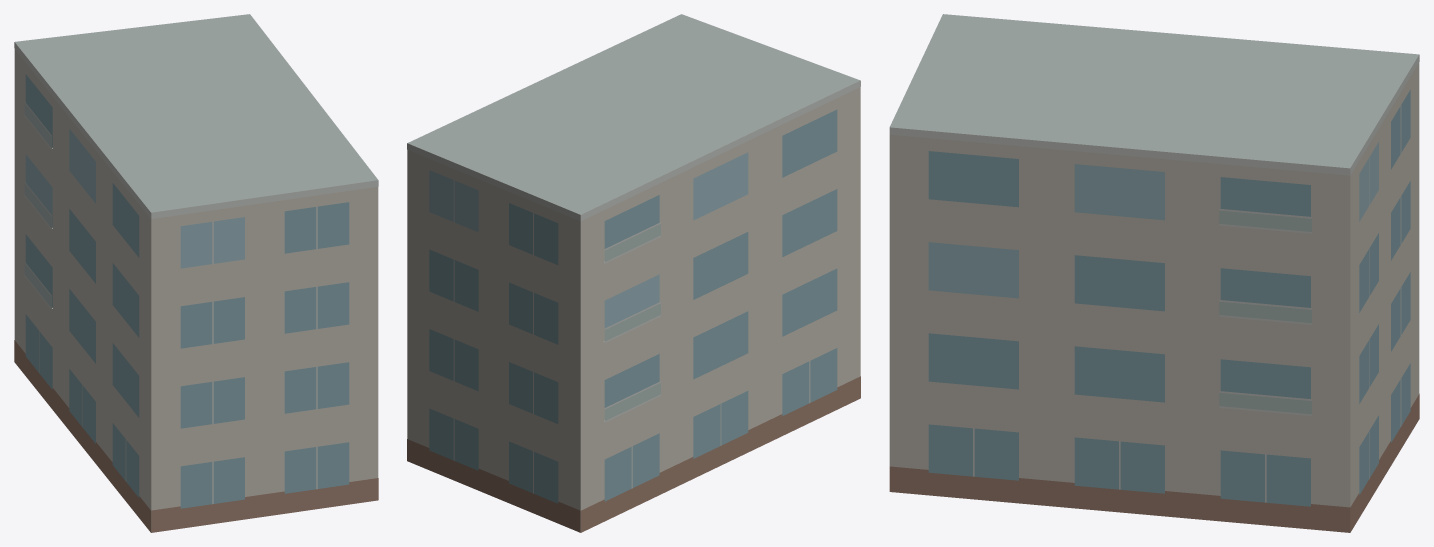
Rendered from survey-upis-32656514.glb.
3 renders of one model, left to right at view 1: azimuth 30°, elevation 25°; view 2: azimuth 150°, elevation 25°; view 3: azimuth 270°, elevation 25°, orthographic. The views are drawn at different scales.
Parts seen in each view (by area): view 1: survey-upis-32656514.tmp; view 2: survey-upis-32656514.tmp; view 3: survey-upis-32656514.tmp.
Part boxes in pixels (x1,y1,x2,y2): survey-upis-32656514.tmp: (14,14,378,532); survey-upis-32656514.tmp: (407,14,860,532); survey-upis-32656514.tmp: (889,14,1419,532).
Size of the model in its own units: 11.09 by 12.2 by 16.09.
